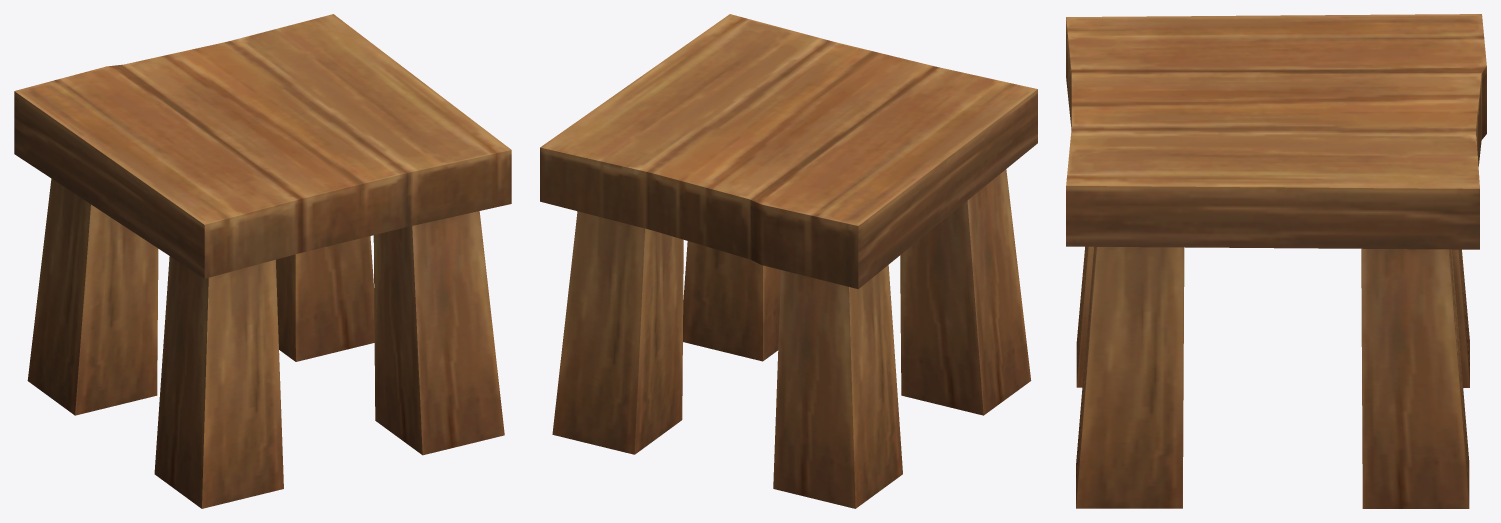
The model's file is Chair_Wooden_01.FBX.
3 views of the same model, side by side, from view 1: azimuth 30°, elevation 25°; view 2: azimuth 150°, elevation 25°; view 3: azimuth 270°, elevation 25° (orthographic). The views are drawn at different scales.
Visible parts, largest first — view 1: Chair_Wooden_01; view 2: Chair_Wooden_01; view 3: Chair_Wooden_01.
Part boxes in pixels (x1,y1,x2,y2): Chair_Wooden_01: [14, 14, 511, 508]; Chair_Wooden_01: [540, 14, 1037, 508]; Chair_Wooden_01: [1066, 14, 1486, 508].
Size of the model in its own units: 54.92 by 55.81 by 47.46.
